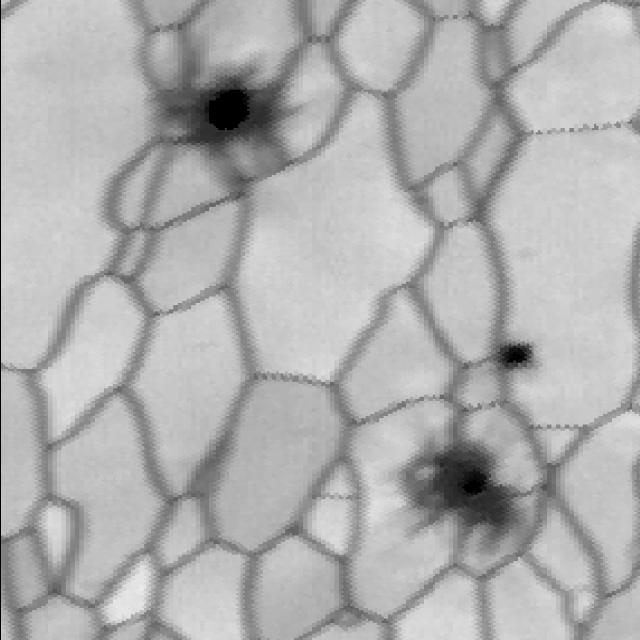good_void: (141, 47, 290, 196), (378, 424, 535, 565), (496, 339, 545, 378)
